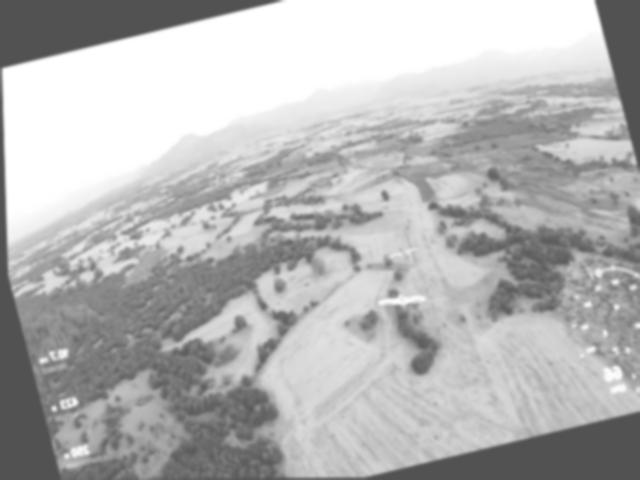hedef: (363, 277, 433, 324), (377, 238, 425, 272)
